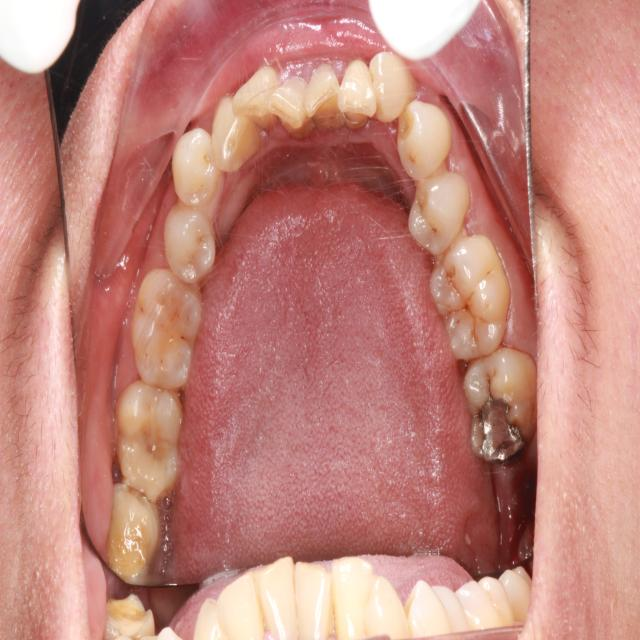tooth: (426, 232, 519, 376), (127, 263, 211, 402), (455, 340, 539, 473), (110, 376, 191, 504), (100, 474, 167, 593), (162, 120, 233, 228), (399, 169, 477, 264), (205, 90, 270, 179), (160, 202, 223, 293), (395, 99, 459, 184), (366, 46, 422, 139), (267, 65, 317, 156), (301, 51, 350, 141), (337, 47, 383, 142), (229, 59, 282, 141)
